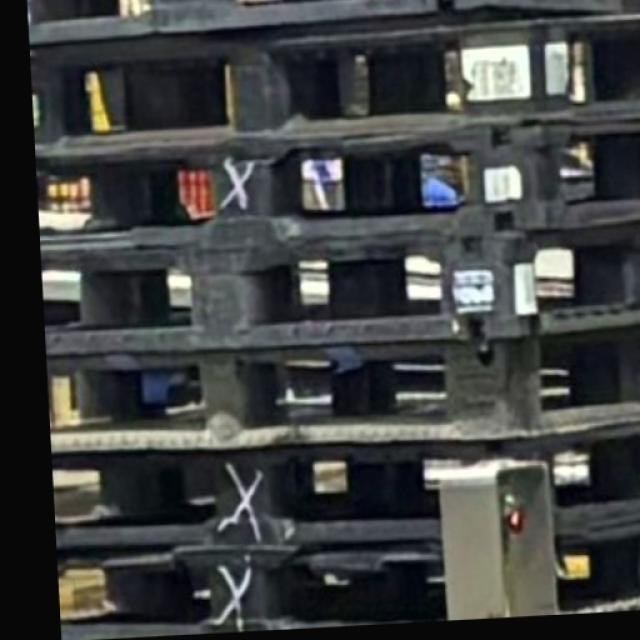igps: (25, 0, 640, 158), (36, 207, 640, 366), (47, 415, 640, 565), (29, 110, 638, 254), (41, 329, 640, 463)
